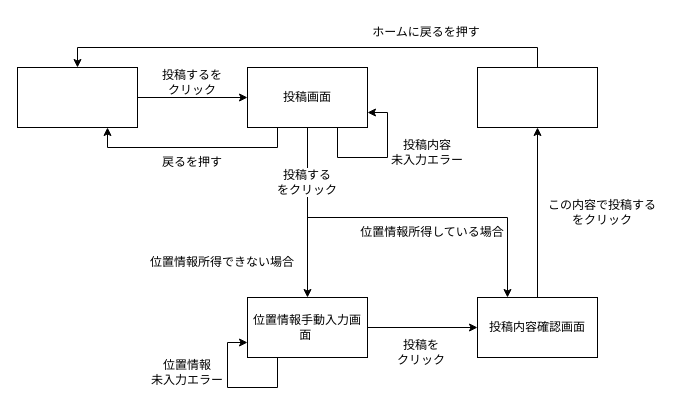
The diagram is 675 pixels wide and 413 high, and some of its shapes have lost their labels. The shapes that lost their labels are listed below. From the top down, each one's box as (x1, y1, x2, y2) in pixels, then its label:
(16, 66, 138, 128): 住民用トップ画面
(476, 66, 598, 128): 投稿完了画面
